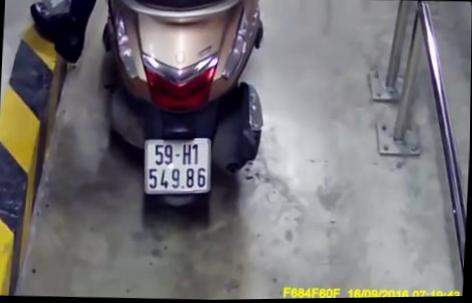LP: (142, 136, 213, 196)
